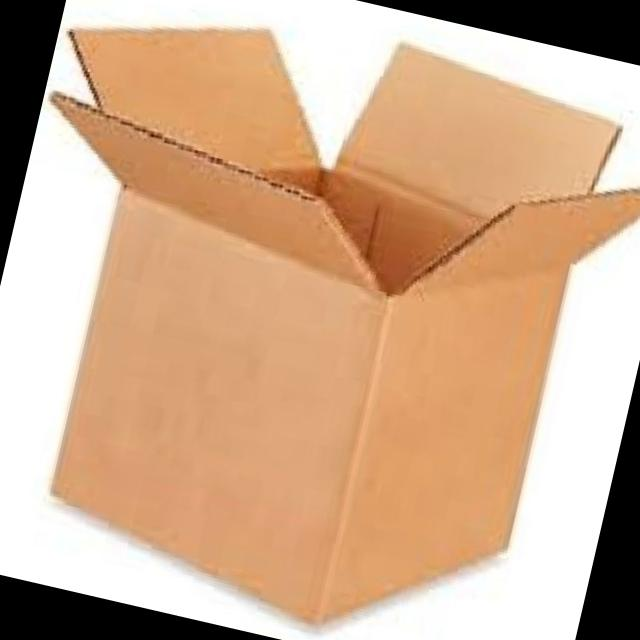cardboard paper: (54, 27, 640, 620)
